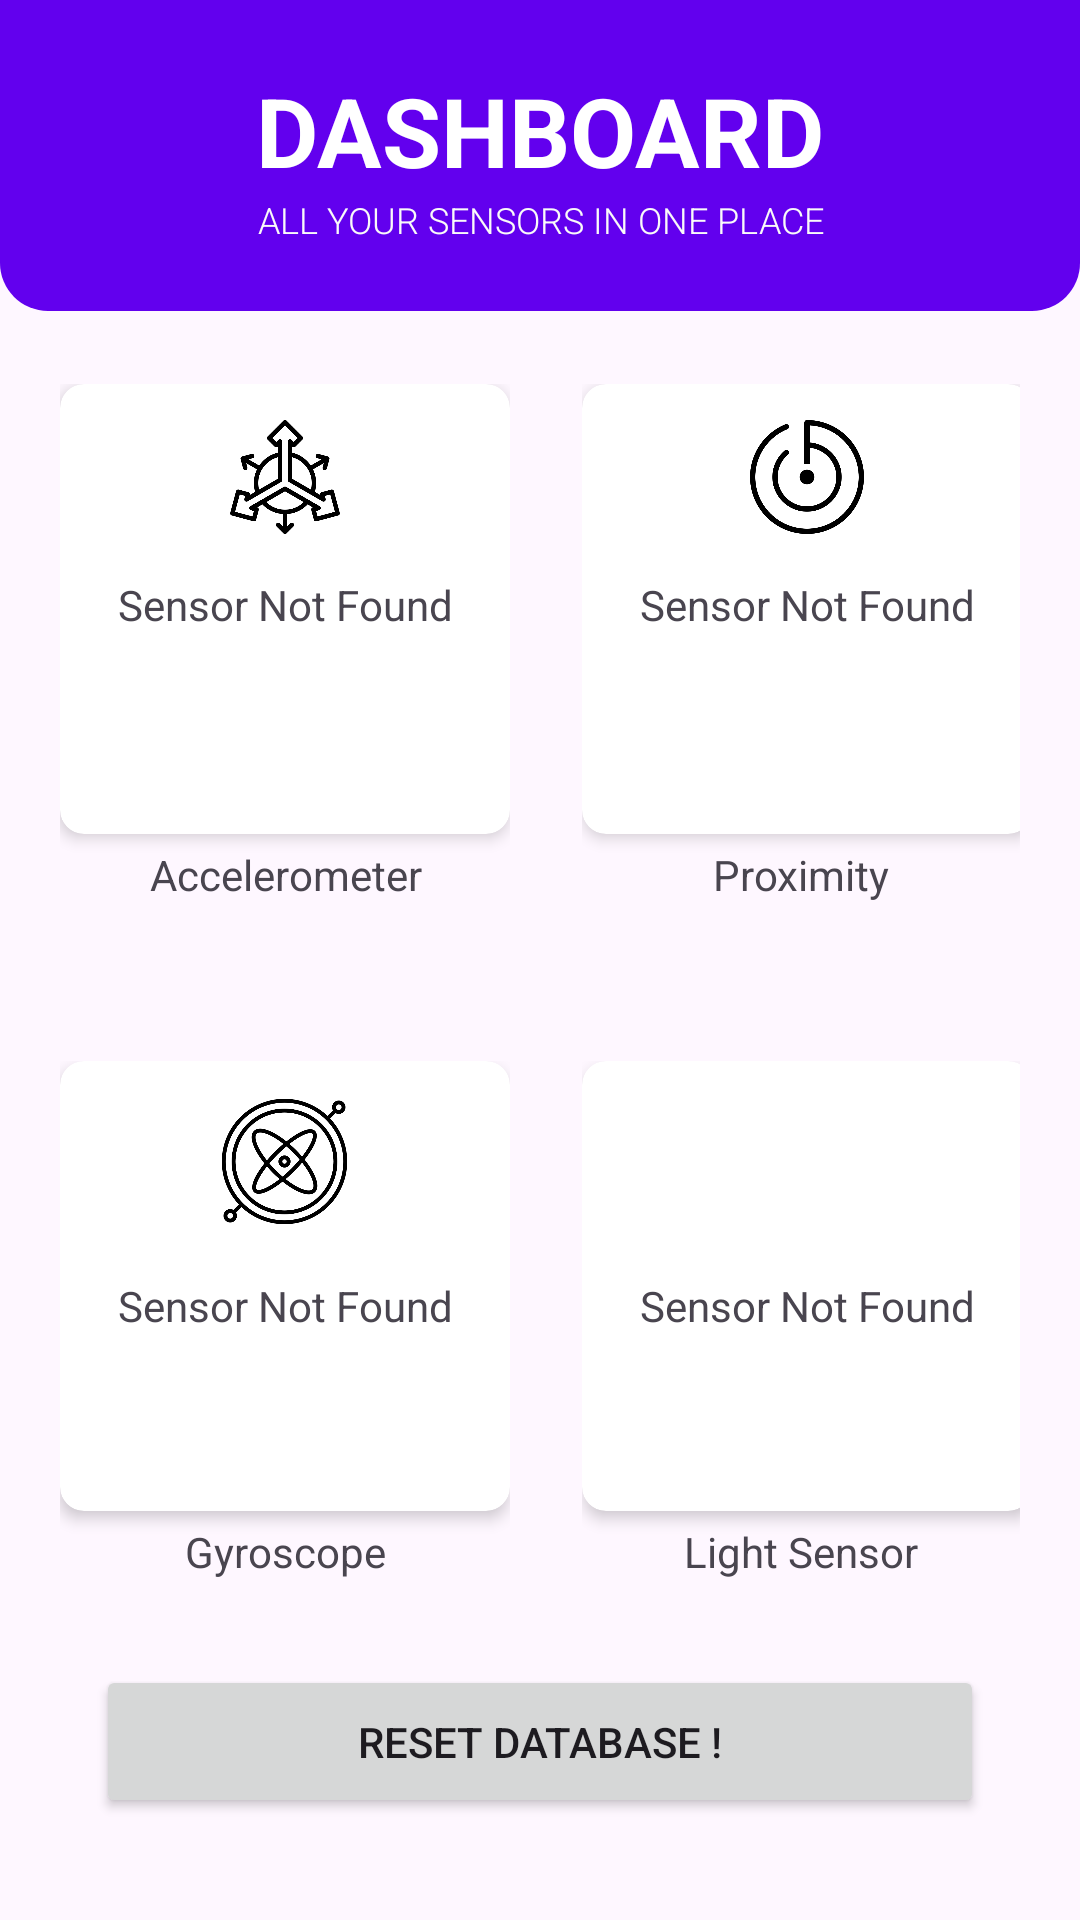

Icons on this 1080 × 1920 Android screen, each with the point to tap as (x=x, y=y):
accelerometer sensor: (x=285, y=477)
gyroscope sensor: (x=284, y=1161)
proximity sensor: (x=807, y=477)
